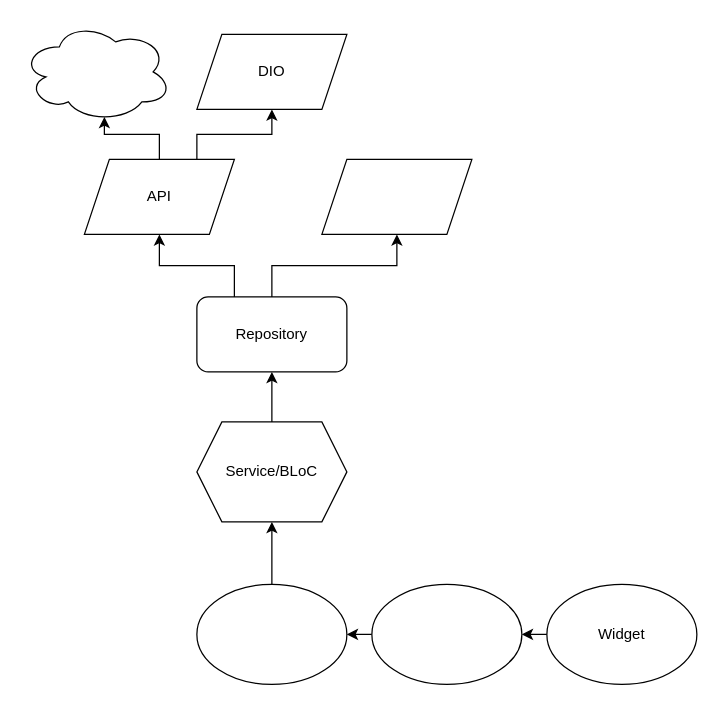
Image size: 719x706. Some labels were removed from this diagram. Here are the shapes that lost their labels. From the top down, the box of each, then its label:
(321, 158, 472, 234): Library
(196, 583, 347, 684): Model
(371, 583, 522, 684): WidgetModel
